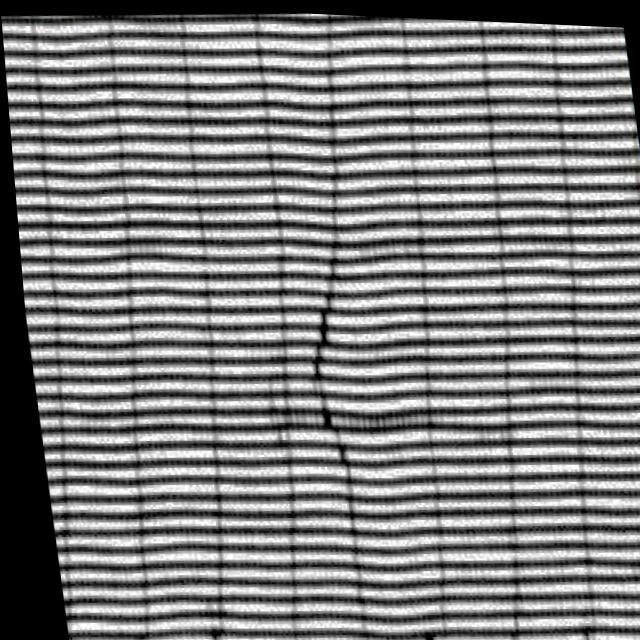Stitch: (227, 185, 391, 508)
